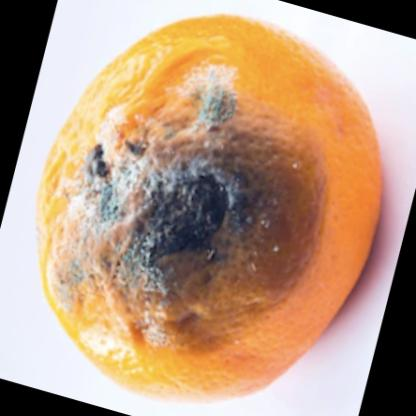rotten: (36, 12, 381, 398)
